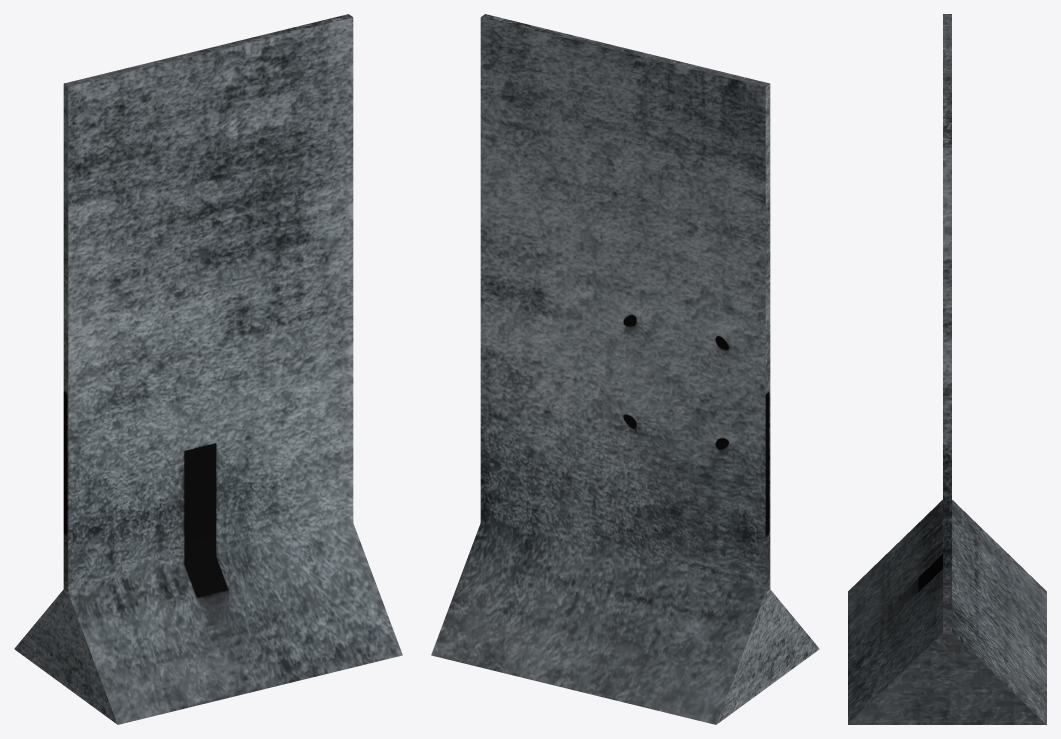
Rendered from store_39.obj.
The picture shows the model from 3 angles, left to right: view 1: azimuth 30°, elevation 25°; view 2: azimuth 150°, elevation 25°; view 3: azimuth 270°, elevation 25°; orthographic projection. The views are drawn at different scales.
Size of the model in its own units: 58.76 by 119 by 37.01.
